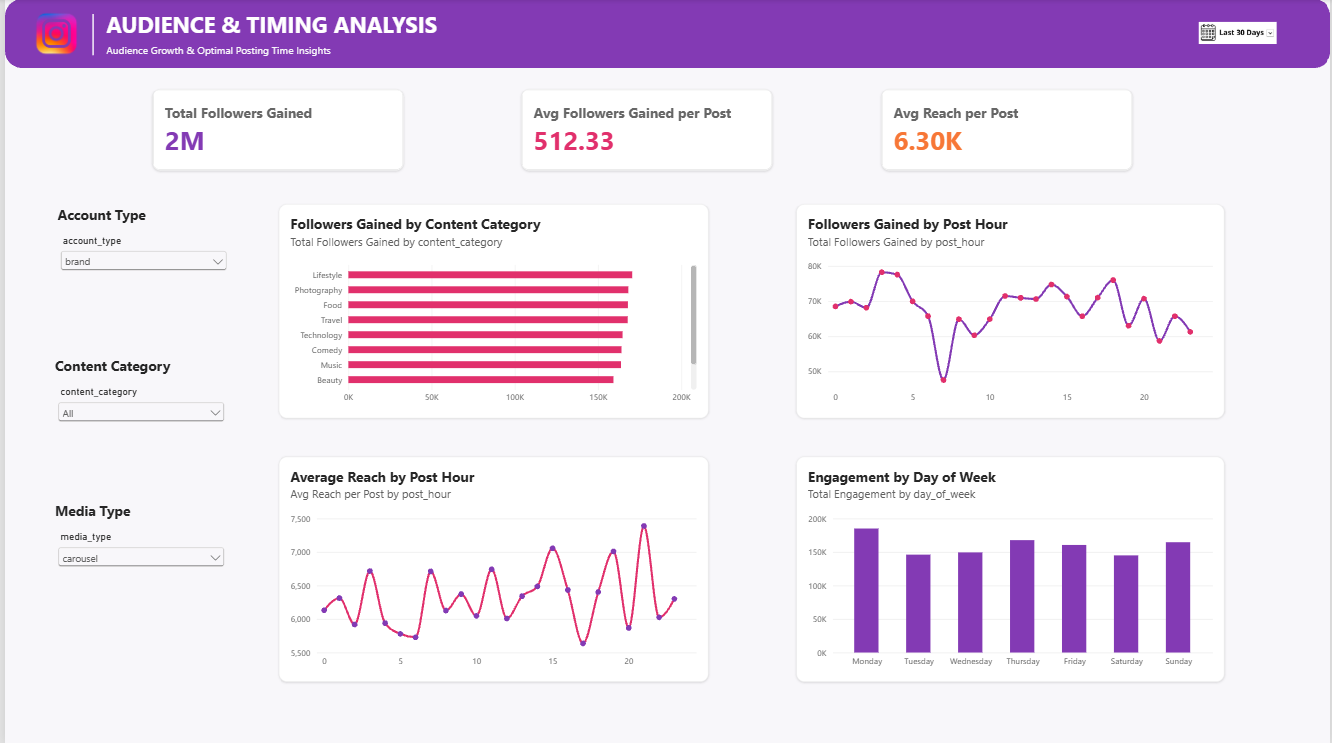

The dashboard page shown, as its layout file describes it:
{"tool":"powerbi","page":{"name":"Audience & Timing Analysis","canvas":[1920,1080],"ordinal":2},"visuals":[{"type":"shape","box":[0,0,1920,100],"z":0},{"type":"textbox","box":[145.8,14.2,500,48.3],"z":1000},{"type":"textbox","box":[145.8,62.5,348.3,37.5],"z":2000},{"type":"image","box":[32.9,7.1,84.3,85.7],"z":3000},{"type":"shape","box":[55.7,21.4,142.9,60],"z":4000},{"type":"image","box":[1728.3,31.7,112.5,36.7],"z":5000},{"type":"cardVisual","fields":{"Data":["Instagram_Analytics.Total Followers Gained"]},"box":[214,130,364,118],"z":6000},{"type":"cardVisual","fields":{"Data":["Instagram_Analytics.Avg Followers Gained per Post"]},"box":[748,130,364,118],"z":6001},{"type":"cardVisual","fields":{"Data":["Instagram_Analytics.Avg Reach per Post"]},"box":[1268,130,364,118],"z":6002},{"type":"clusteredBarChart","title":"Followers Gained by Content Category","fields":{"Category":["Instagram_Analytics.content_category"],"Y":["Instagram_Analytics.Total Followers Gained"]},"box":[396,296,622,310],"z":6003},{"type":"lineChart","title":"Followers Gained by Post Hour","fields":{"Category":["Instagram_Analytics.post_hour"],"Y":["Instagram_Analytics.Total Followers Gained"]},"box":[1146,296,620,310],"z":6004},{"type":"lineChart","title":"Average Reach by Post Hour","fields":{"Category":["Instagram_Analytics.post_hour"],"Y":["Instagram_Analytics.Avg Reach per Post"]},"box":[396,662,622,326],"z":6005},{"type":"clusteredColumnChart","title":"Engagement by Day of Week","fields":{"Category":["DimDay.day_of_week"],"Y":["Instagram_Analytics.Total Engagement"]},"box":[1146,662,620,326],"z":6006},{"type":"slicer","title":"Account Type","fields":{"Values":["Instagram_Analytics.account_type"]},"box":[76,298,250,98],"z":6007},{"type":"slicer","title":"Content Category ","fields":{"Values":["Instagram_Analytics.content_category"]},"box":[72,518,250,210],"z":6008},{"type":"slicer","title":"Media Type","fields":{"Values":["Instagram_Analytics.media_type"]},"box":[72,728,250,98],"z":6009}]}

Visuals, with their boxes in screenshot pixels (x1, y1, x2, y2), scaled from the page's 1920x1080 canvas onto the 1332x743 screenshot:
shape: 0/0/1331/69
textbox: 101/10/448/43
textbox: 101/43/343/69
image: 23/5/81/64
shape: 39/15/138/56
image: 1199/22/1277/47
cardVisual - Instagram_Analytics.Total Followers Gained: 148/89/401/171
cardVisual - Instagram_Analytics.Avg Followers Gained per Post: 519/89/771/171
cardVisual - Instagram_Analytics.Avg Reach per Post: 880/89/1132/171
"Followers Gained by Content Category" clusteredBarChart: 275/204/706/417
"Followers Gained by Post Hour" lineChart: 795/204/1225/417
"Average Reach by Post Hour" lineChart: 275/455/706/680
"Engagement by Day of Week" clusteredColumnChart: 795/455/1225/680
"Account Type" slicer: 53/205/226/272
"Content Category " slicer: 50/356/223/501
"Media Type" slicer: 50/501/223/568
